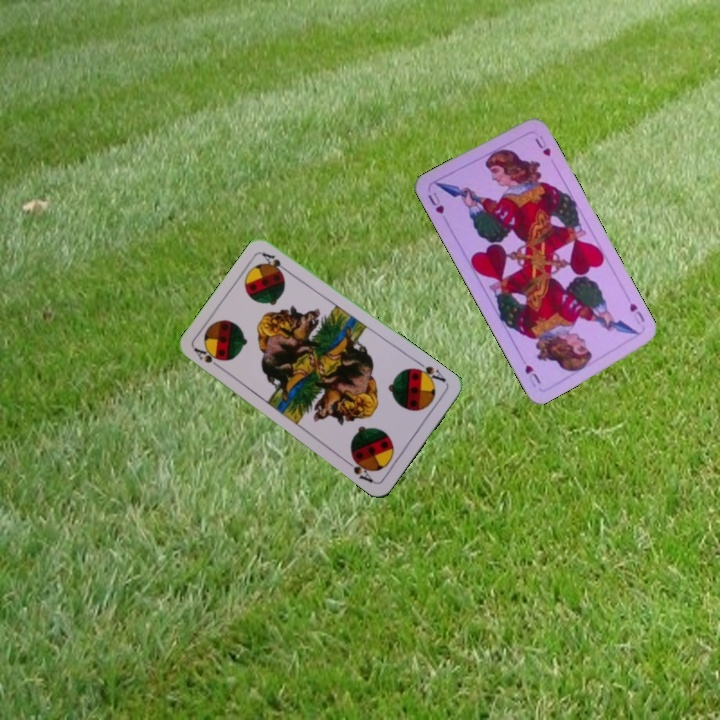HU: (423, 188, 447, 217), (625, 299, 647, 324)
SA: (190, 343, 226, 373), (410, 358, 448, 386)
